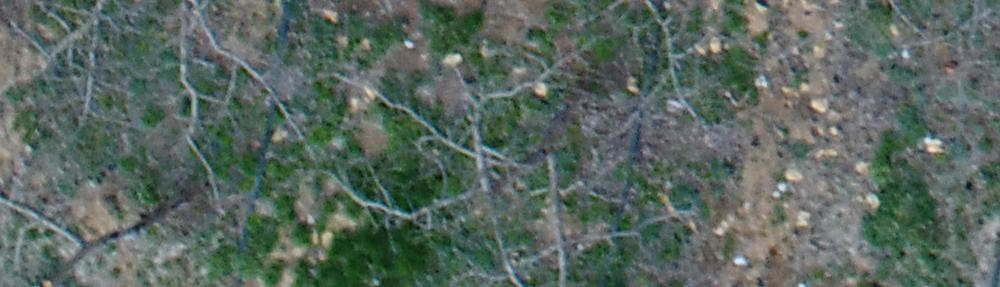apple: (10, 10, 389, 223)
